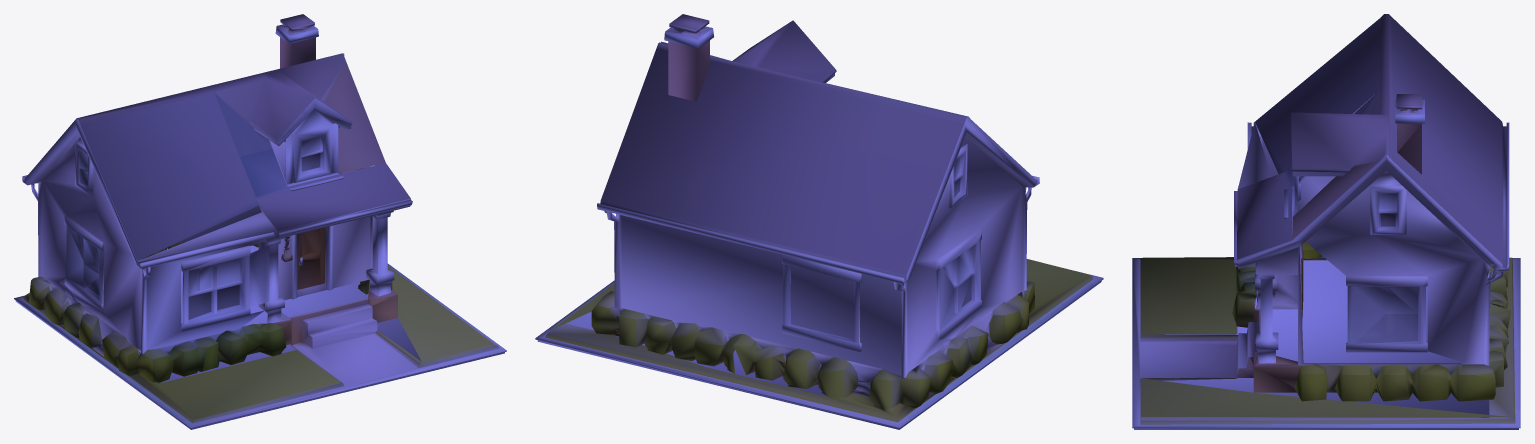
Rendered from model.progressive.glb.
The picture shows the model from 3 angles, left to right: view 1: azimuth 30°, elevation 25°; view 2: azimuth 150°, elevation 25°; view 3: azimuth 270°, elevation 25°; orthographic projection. The views are drawn at different scales.
Visible parts, largest first — view 1: material; view 2: material; view 3: material.
Boxes of the visible parts, box(x1,y1,x2,y2) form: material: box(14, 14, 506, 429); material: box(535, 14, 1103, 429); material: box(1132, 14, 1520, 429).
Size of the model in its own units: 1.88 by 1.47 by 1.81.
1 material, 1 textured.
